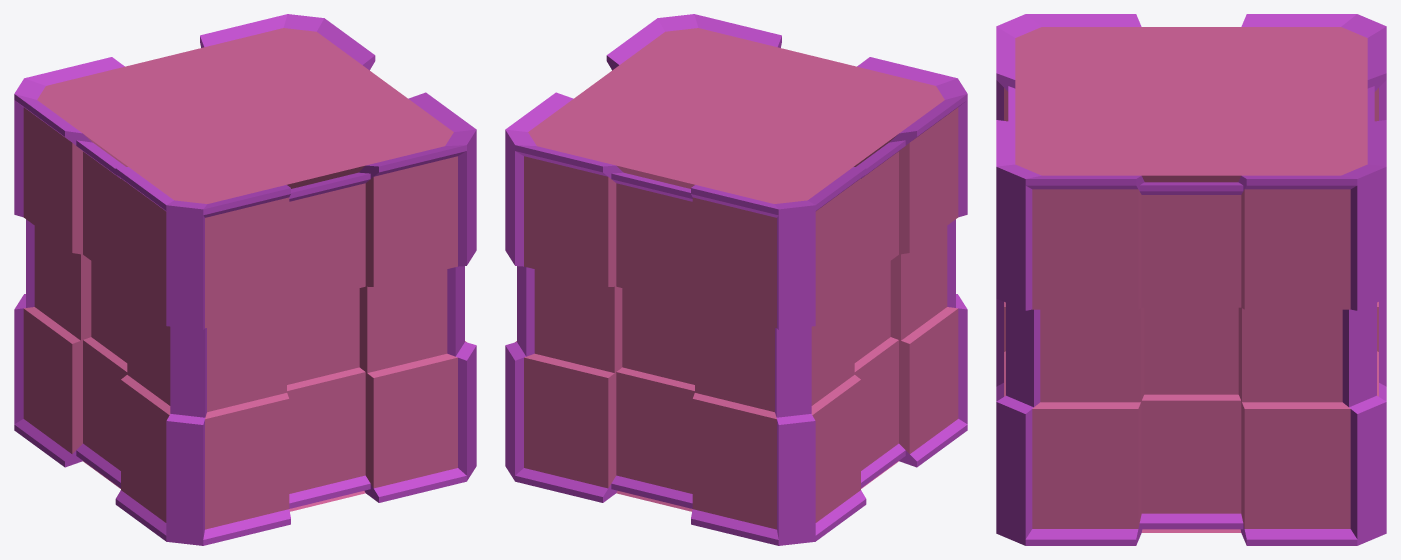
The picture shows the model from 3 angles, left to right: view 1: azimuth 30°, elevation 25°; view 2: azimuth 150°, elevation 25°; view 3: azimuth 270°, elevation 25°; orthographic projection. The views are drawn at different scales.
Visible parts, largest first — view 1: Cube; view 2: Cube; view 3: Cube.
Part boxes in pixels (<box>): Cube: <box>14,14,476,545</box>; Cube: <box>505,14,967,545</box>; Cube: <box>996,14,1386,545</box>.
Size of the model in its own units: 200 by 207 by 200.
